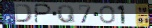1: (117, 5, 127, 26)
7: (78, 5, 92, 25)
D: (14, 4, 34, 24)
O: (98, 5, 117, 25)
P: (34, 3, 53, 24)
Q: (56, 4, 77, 24)
